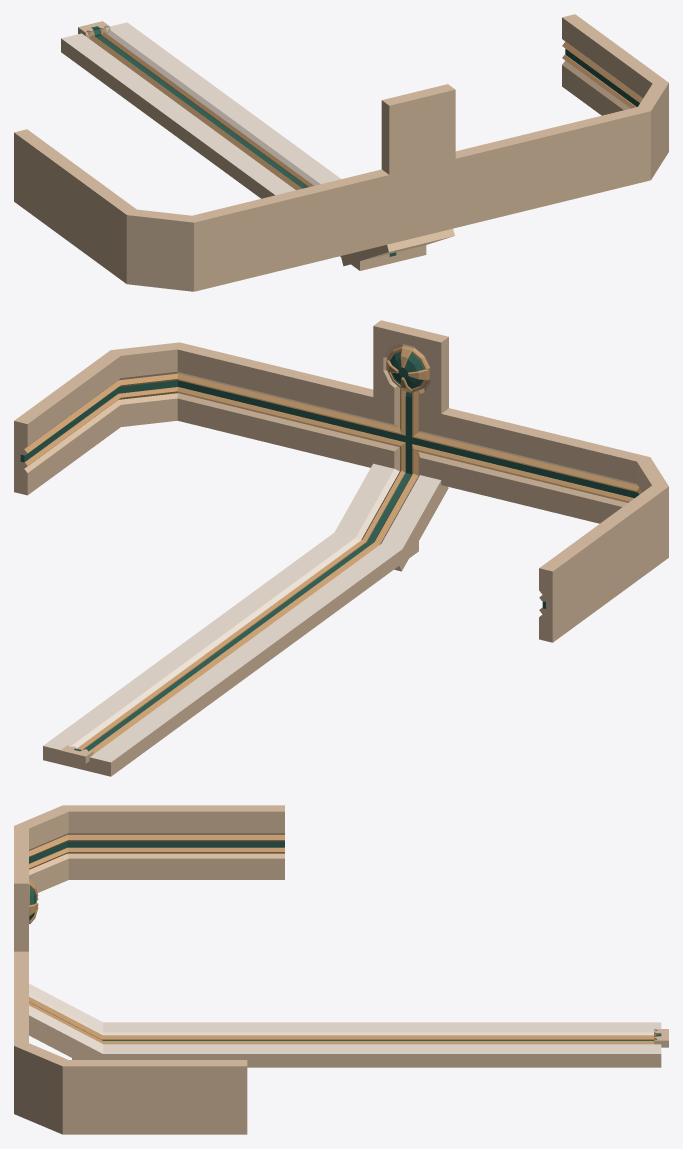
Rendered from Circuit_1.glb.
3 views of the same model, one above another, from view 1: azimuth 30°, elevation 25°; view 2: azimuth 150°, elevation 25°; view 3: azimuth 270°, elevation 25° (orthographic). The views are drawn at different scales.
Visible parts, largest first — view 1: mergedBlocks(Clone); view 2: mergedBlocks(Clone); view 3: mergedBlocks(Clone).
Part boxes in pixels (left/top/right/bottom): mergedBlocks(Clone): left=14, top=14, right=668, bottom=291; mergedBlocks(Clone): left=14, top=320, right=668, bottom=776; mergedBlocks(Clone): left=14, top=805, right=668, bottom=1134.
Size of the model in its own units: 24.6 by 8.42 by 26.1.
